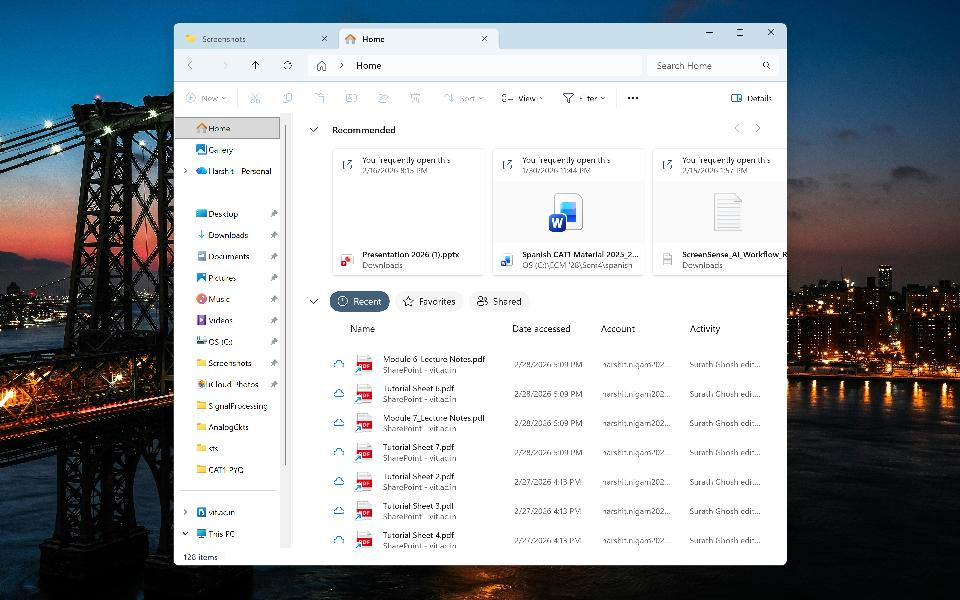close_button: (760, 25, 781, 42)
maximize_button: (730, 26, 752, 45)
minimize_button: (700, 25, 721, 44)
